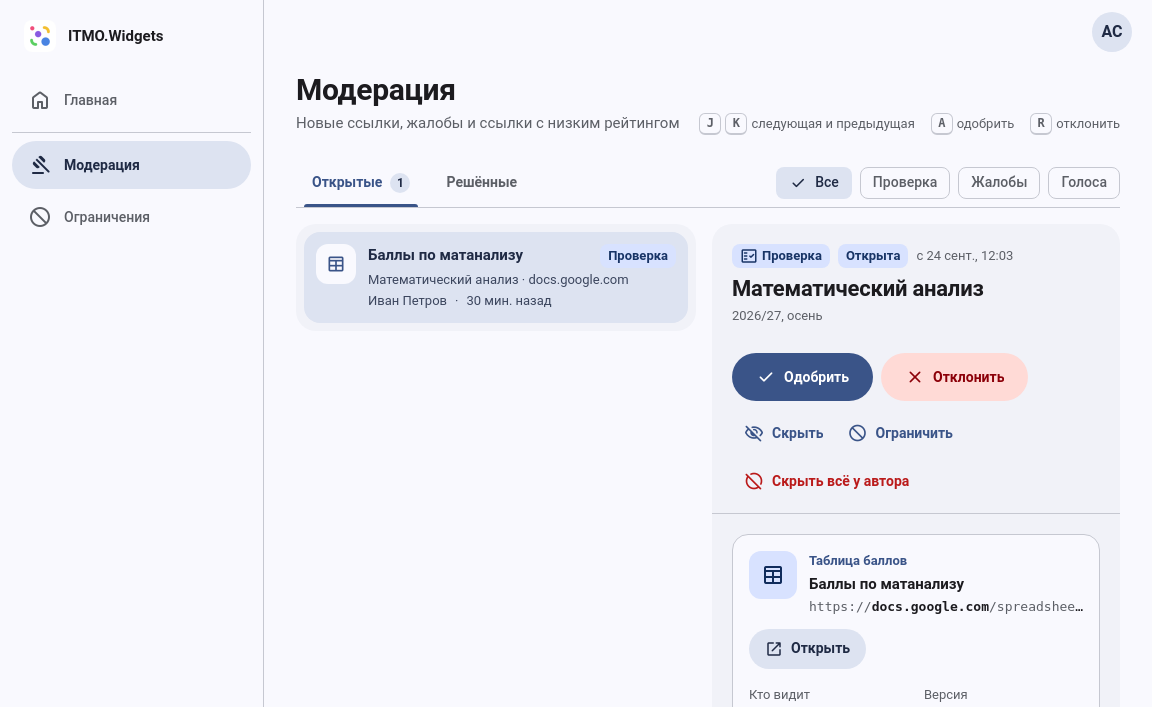
ModerationPage › hides everything by the author only after confirmation
The image size is (1152, 707).
Click the button "Скрыть всё у автора": [827, 481] box x1=732 y1=457 x2=921 y2=505
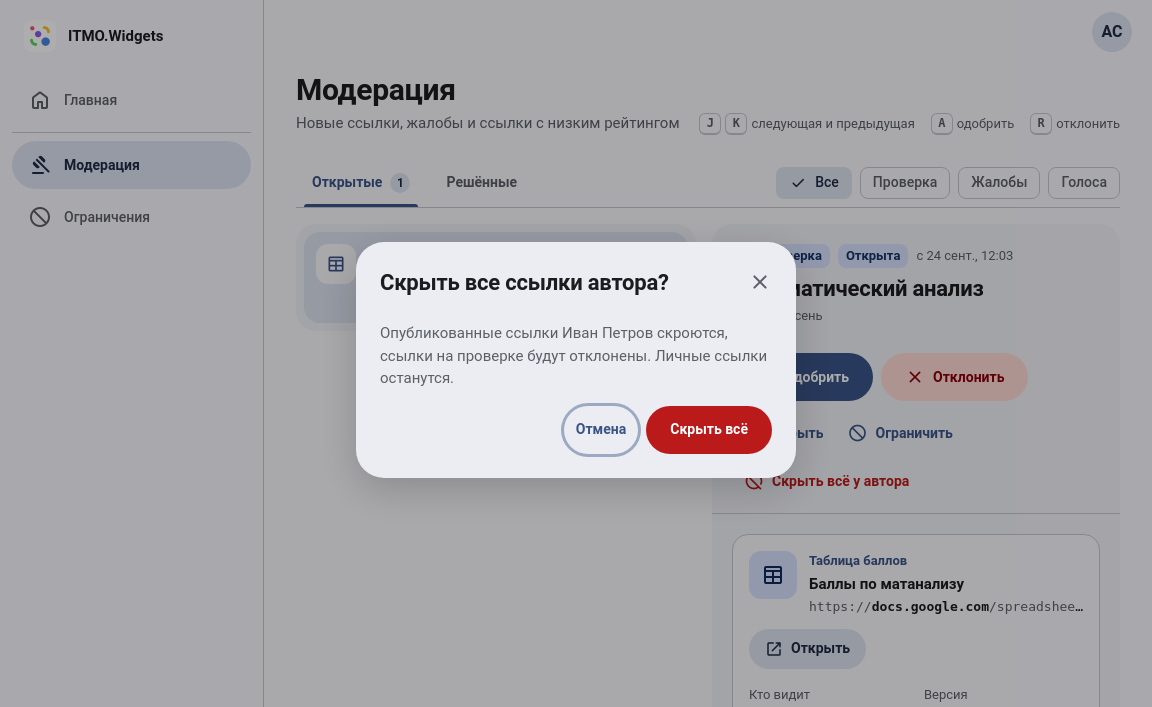
Click the button "Скрыть всё": [709, 430] box x1=646 y1=406 x2=772 y2=454
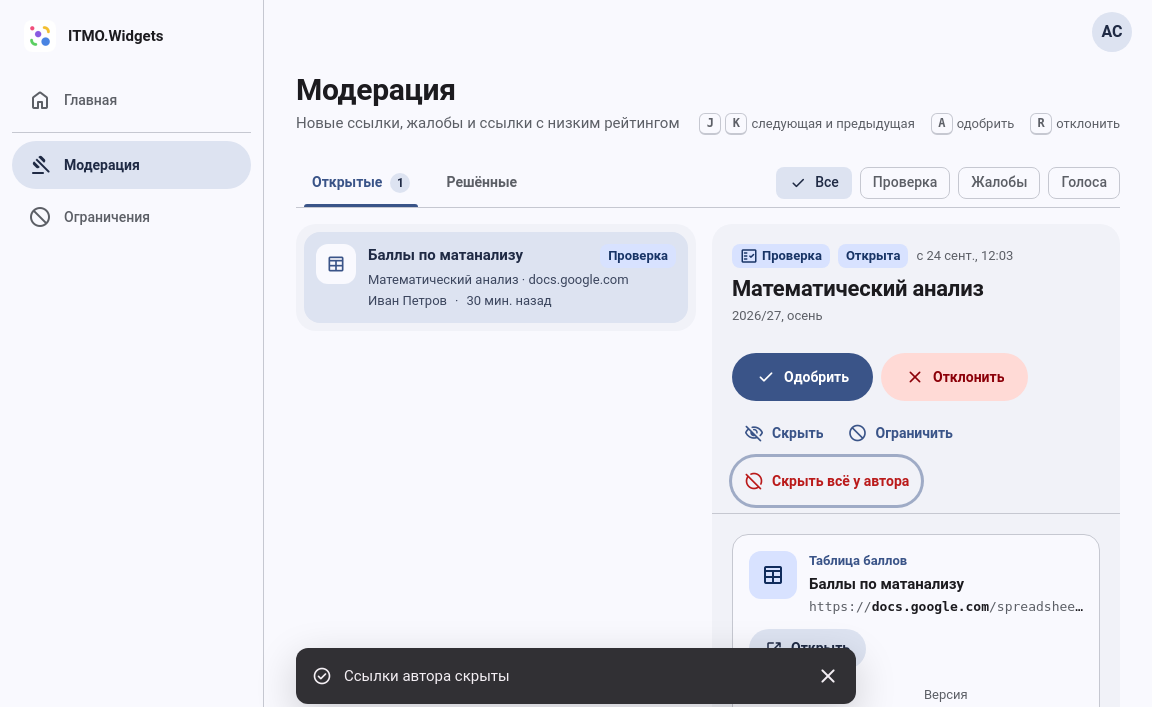
Now the text "Ссылки автора скрыты" is shown, box x1=344 y1=667 x2=510 y2=685
